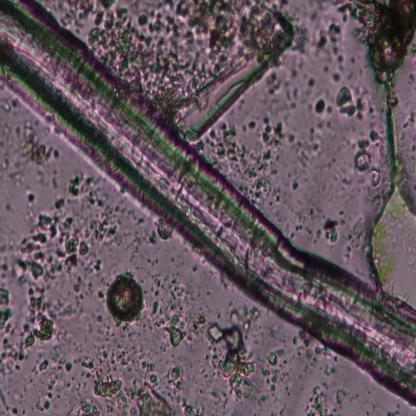Background material: (174, 15, 300, 135), (10, 170, 122, 300), (89, 0, 208, 112), (73, 338, 196, 416), (209, 294, 265, 403), (177, 0, 280, 58), (210, 120, 279, 202), (147, 269, 212, 350), (290, 204, 372, 261), (364, 0, 415, 79), (16, 285, 56, 355), (315, 23, 358, 81), (0, 285, 26, 372), (10, 122, 62, 164), (288, 119, 326, 173), (257, 114, 295, 162), (305, 376, 350, 416), (64, 0, 120, 32), (260, 345, 292, 392), (327, 0, 367, 36), (348, 148, 380, 190), (292, 328, 322, 365), (333, 84, 361, 119), (52, 323, 84, 353), (53, 294, 84, 324), (0, 153, 26, 185), (127, 224, 148, 259), (262, 74, 288, 101), (0, 241, 15, 287), (394, 154, 416, 183), (199, 350, 216, 387), (294, 30, 310, 66), (205, 387, 230, 410), (147, 221, 168, 248), (396, 106, 416, 133), (34, 390, 54, 414), (31, 355, 50, 376), (78, 356, 93, 380), (103, 322, 120, 343), (302, 74, 316, 97), (314, 94, 329, 115), (0, 388, 10, 416), (52, 369, 64, 391), (9, 402, 27, 416), (366, 96, 376, 118), (145, 254, 159, 269), (239, 119, 255, 132), (368, 127, 380, 144), (62, 376, 74, 392), (324, 364, 340, 376), (288, 179, 304, 191), (407, 70, 416, 90), (56, 358, 68, 373), (138, 322, 149, 338), (280, 401, 291, 416), (384, 406, 399, 416), (158, 340, 168, 354), (95, 312, 106, 324), (97, 288, 107, 301), (124, 321, 132, 337), (258, 394, 268, 406), (14, 395, 26, 405), (270, 394, 278, 406), (332, 353, 340, 365), (65, 361, 74, 371), (4, 204, 13, 214), (281, 333, 288, 343), (269, 330, 276, 338), (286, 386, 291, 397), (254, 409, 261, 416), (192, 263, 198, 271), (22, 386, 28, 394), (271, 410, 278, 416), (171, 255, 176, 262), (198, 389, 202, 397), (74, 357, 77, 365), (30, 378, 34, 383)
Diatom: (106, 271, 148, 323)
Microfibre: (0, 0, 416, 402)
